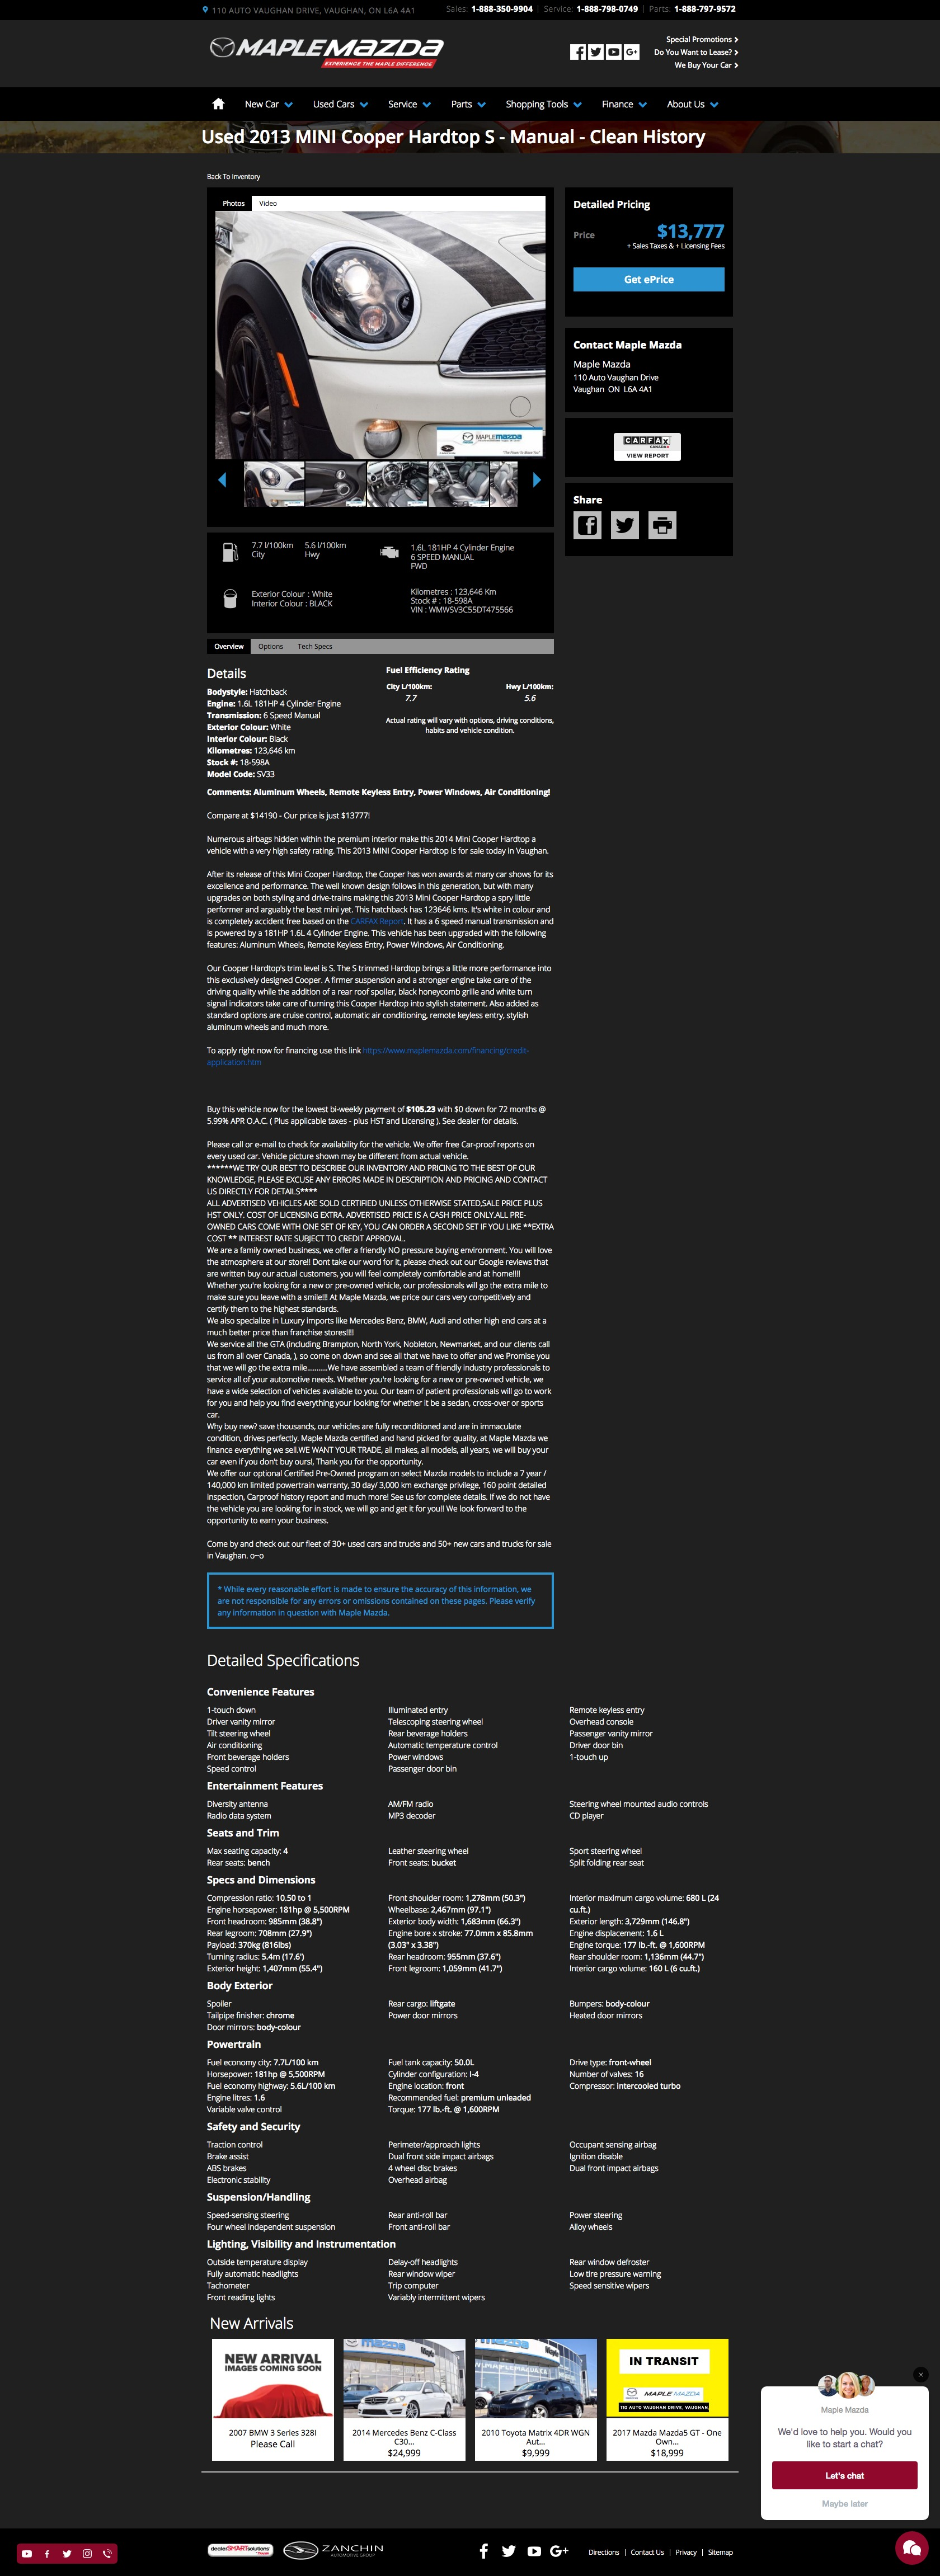car: (532, 472, 542, 488)
